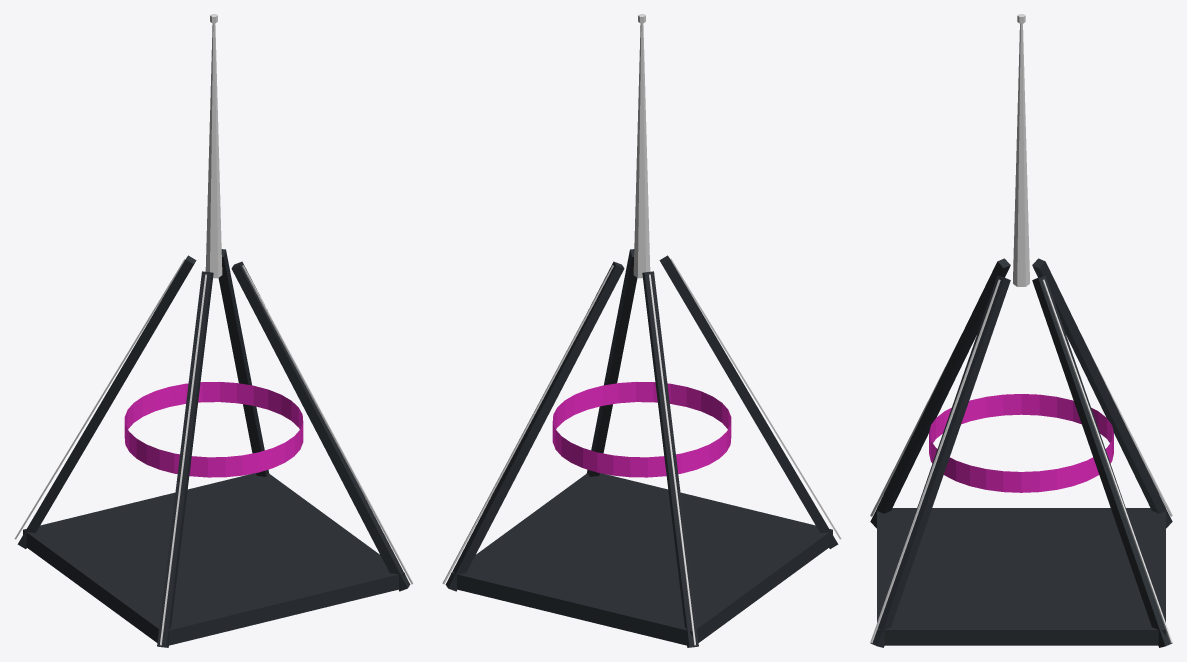
File: LMM_Roof_AG_Spire.fbx
3 renders of one model, left to right at view 1: azimuth 30°, elevation 25°; view 2: azimuth 150°, elevation 25°; view 3: azimuth 270°, elevation 25°, orthographic. The views are drawn at different scales.
Parts seen in each view (by area): view 1: LMM_Roof_AG_Spire_LOD0; view 2: LMM_Roof_AG_Spire_LOD0; view 3: LMM_Roof_AG_Spire_LOD0.
Boxes of the visible parts, x1=… form: LMM_Roof_AG_Spire_LOD0: x1=14, y1=14, x2=413, y2=647; LMM_Roof_AG_Spire_LOD0: x1=442, y1=14, x2=841, y2=647; LMM_Roof_AG_Spire_LOD0: x1=870, y1=14, x2=1172, y2=647.
Size of what is drawn, in the model's own units: 10.48 by 21.83 by 10.48.
